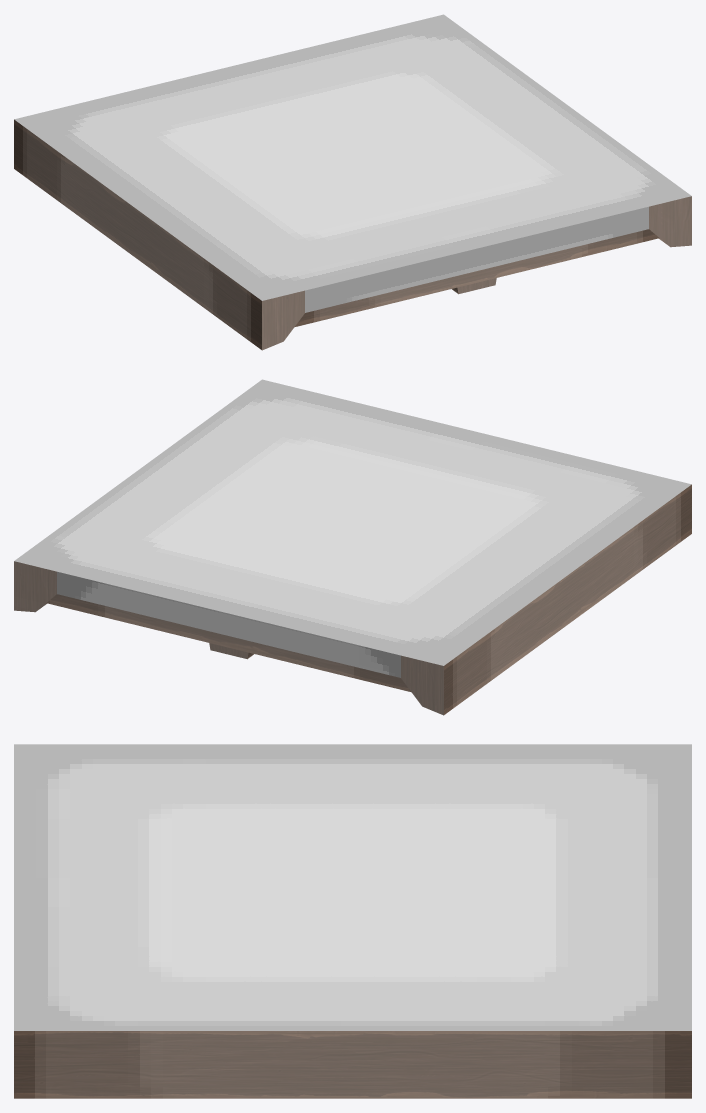
The model's file is SM_Ceiling_Wooden_01.fbx.
The picture shows the model from 3 angles, top to bottom: view 1: azimuth 30°, elevation 25°; view 2: azimuth 150°, elevation 25°; view 3: azimuth 270°, elevation 25°; orthographic projection. The views are drawn at different scales.
Parts seen in each view (by area): view 1: SM_Ceiling_Wooden_01; view 2: SM_Ceiling_Wooden_01; view 3: SM_Ceiling_Wooden_01.
Boxes of the visible parts, x1,y1,x2,y2 form: SM_Ceiling_Wooden_01: (14, 14, 691, 350); SM_Ceiling_Wooden_01: (14, 379, 691, 715); SM_Ceiling_Wooden_01: (14, 744, 691, 1098).
Size of the model in its own units: 500 by 500 by 55.
